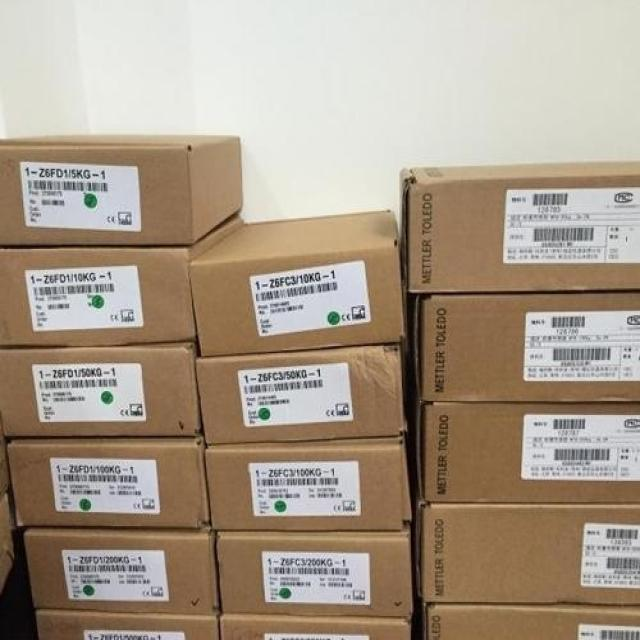box: (1, 216, 249, 344), (190, 210, 404, 357), (400, 162, 639, 291), (0, 131, 244, 246), (408, 291, 639, 402), (413, 500, 639, 606), (411, 401, 639, 504), (196, 344, 406, 445), (205, 438, 409, 530), (11, 437, 209, 530), (213, 528, 409, 618), (25, 529, 220, 615), (414, 605, 639, 639), (36, 614, 220, 639), (220, 614, 409, 638)
